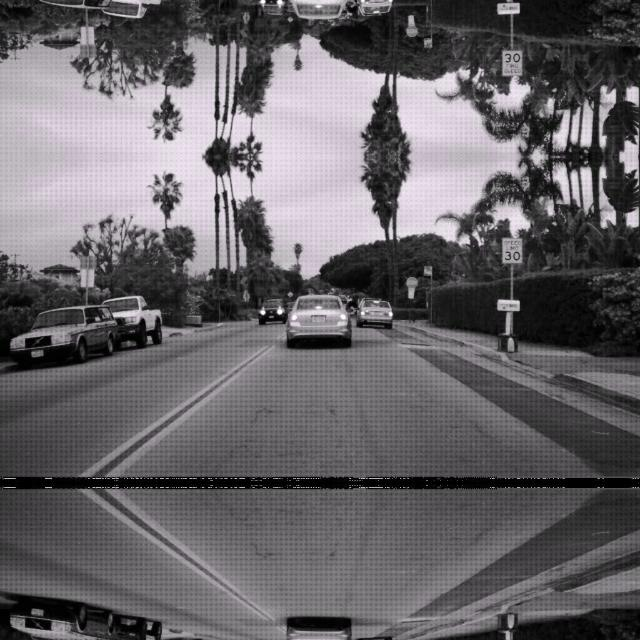stop: (405, 276, 417, 286), (405, 26, 417, 36)
